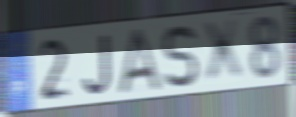2: (38, 36, 72, 102)
8: (247, 14, 282, 83)
A: (117, 26, 163, 97)
J: (81, 32, 113, 97)
S: (162, 22, 200, 90)
X: (199, 16, 246, 88)
